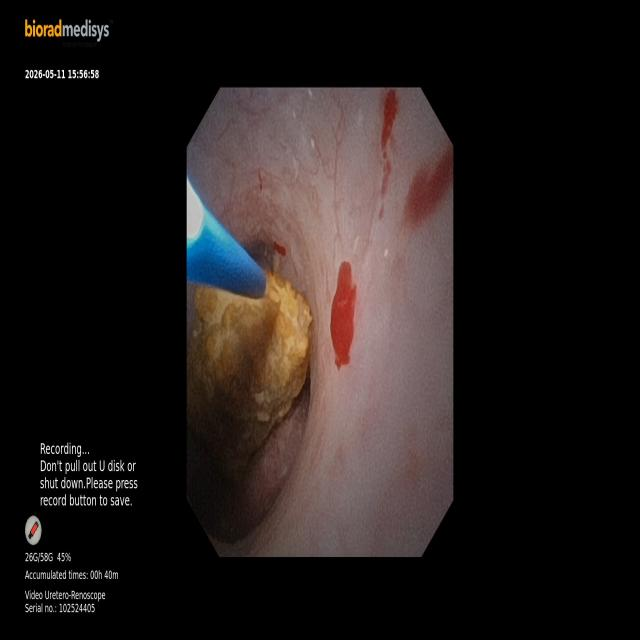stone-new: (187, 271, 312, 476)
